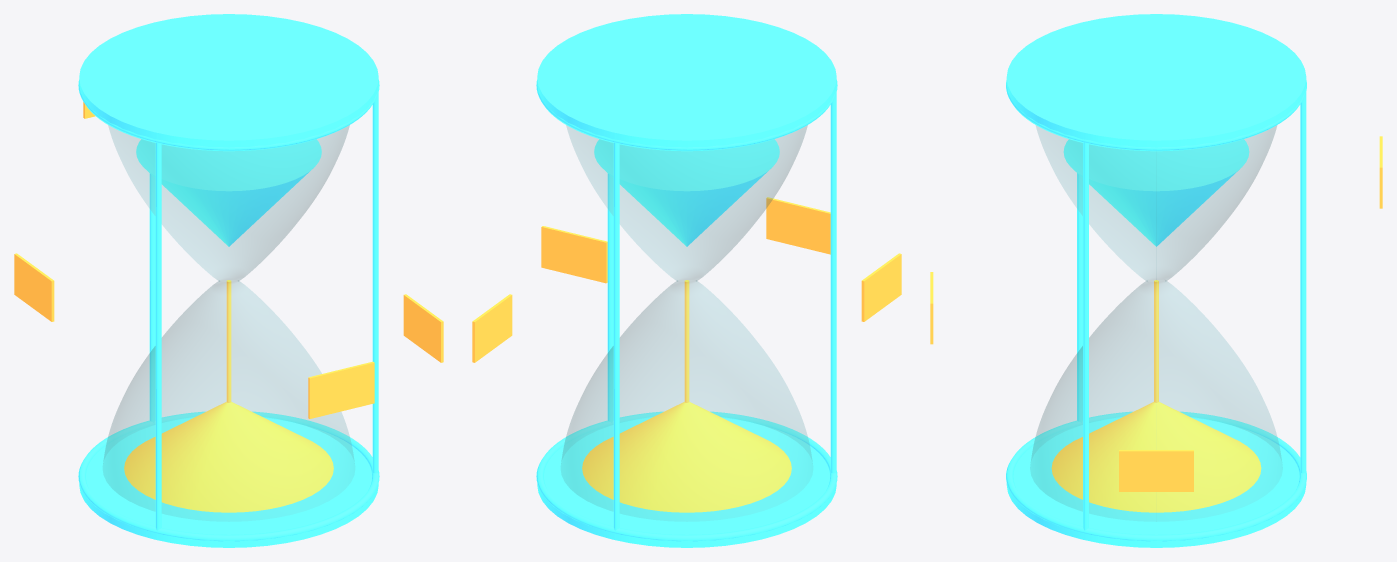
File: ourglass.glb
The picture shows the model from 3 angles, left to right: view 1: azimuth 30°, elevation 25°; view 2: azimuth 150°, elevation 25°; view 3: azimuth 270°, elevation 25°; orthographic projection.
Visible parts, largest first — view 1: ourglass, frame, cards; view 2: ourglass, frame, cards; view 3: ourglass, frame, cards.
Boxes of the visible parts, x1,y1,x2,y2 form: ourglass: [103, 125, 354, 520]; frame: [78, 14, 379, 547]; cards: [14, 102, 443, 418]; ourglass: [561, 125, 812, 520]; frame: [536, 14, 837, 547]; cards: [472, 197, 901, 362]; ourglass: [1030, 125, 1282, 521]; frame: [1006, 14, 1306, 547]; cards: [930, 136, 1382, 491].
Bounding box in the file's own units: 0.302 × 0.3 × 0.302.
